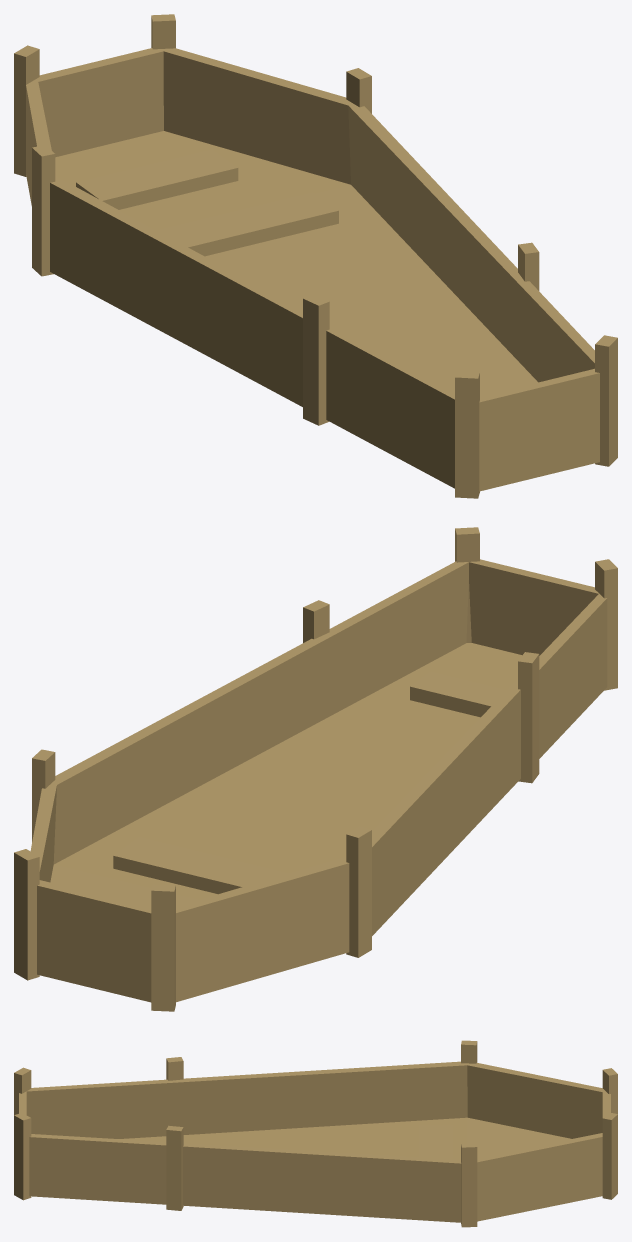
File: coffin_wood_bottom.fbx
The picture shows the model from 3 angles, top to bottom: view 1: azimuth 30°, elevation 25°; view 2: azimuth 150°, elevation 25°; view 3: azimuth 270°, elevation 25°; orthographic projection. The views are drawn at different scales.
Visible parts, largest first — view 1: coffin_wood_bottom; view 2: coffin_wood_bottom; view 3: coffin_wood_bottom.
Part boxes in pixels (bbox=[...]): coffin_wood_bottom: bbox=[14, 14, 617, 498]; coffin_wood_bottom: bbox=[14, 527, 617, 1011]; coffin_wood_bottom: bbox=[14, 1040, 617, 1227].
Size of the model in its own units: 0.9815 by 0.3409 by 2.34.
